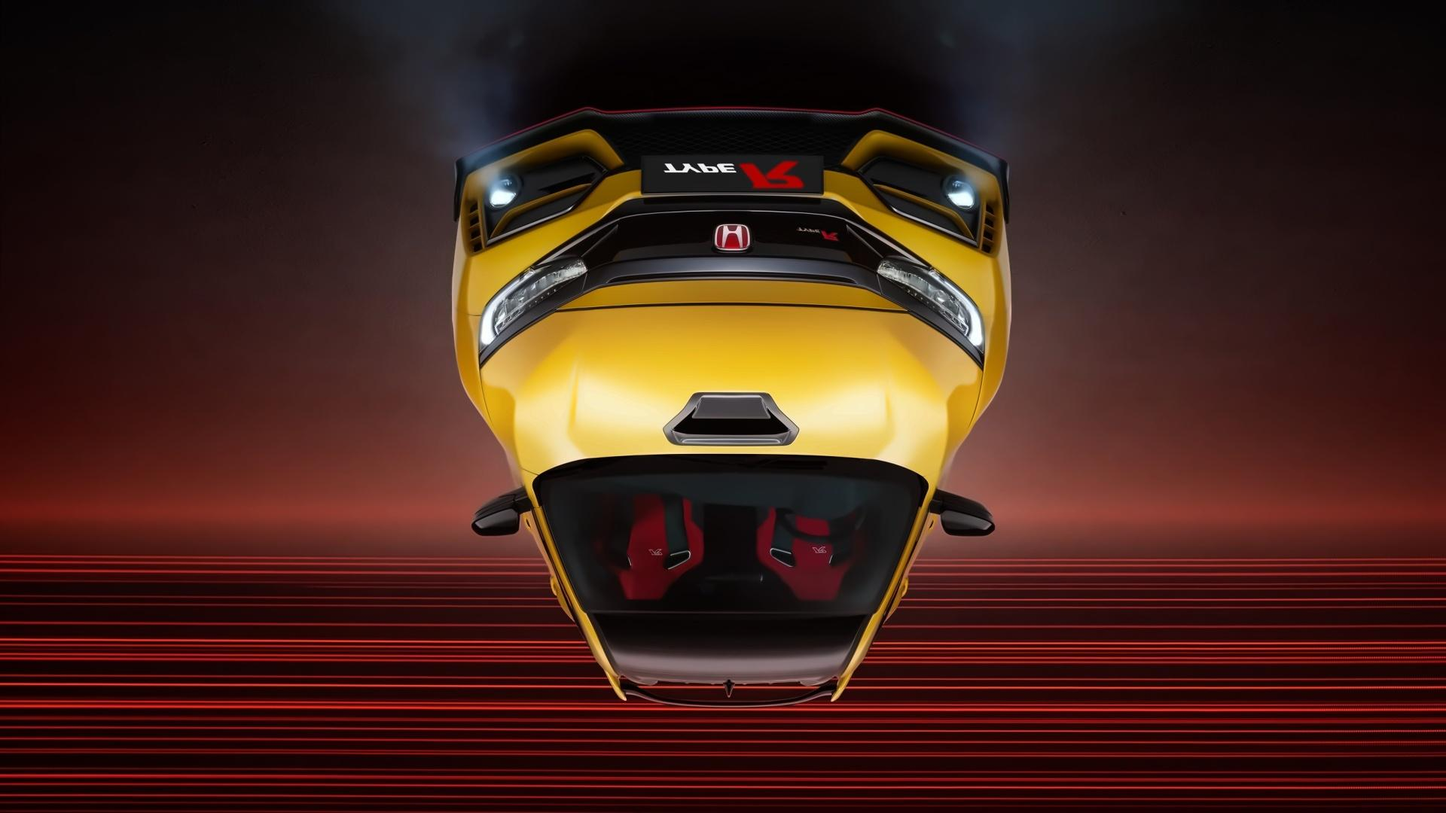Car hood: (476, 299, 986, 474)
Front bumper: (431, 102, 1023, 318)
Headlight - -L-: (473, 255, 595, 367)
Headlight - -R-: (869, 252, 984, 358)
Side mirror - -L-: (464, 478, 542, 547)
Side mirror - -R-: (923, 484, 996, 539)
